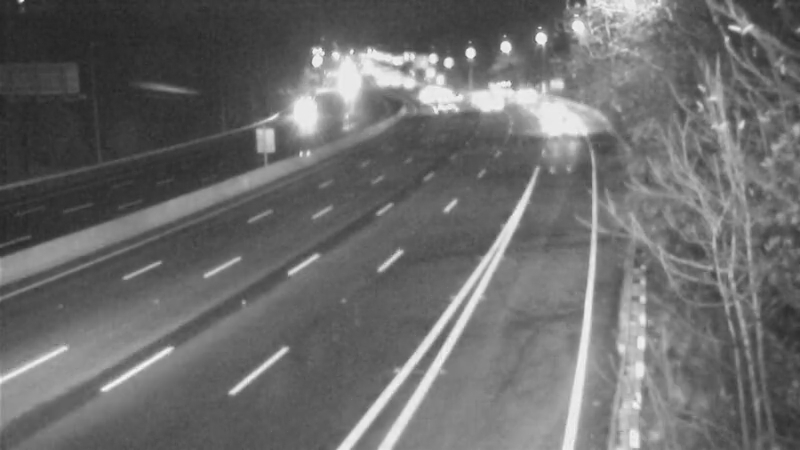vehicle: (470, 62, 520, 112), (397, 70, 447, 120), (490, 63, 540, 113), (450, 71, 500, 121), (468, 79, 518, 129), (527, 85, 577, 135), (415, 82, 465, 132), (537, 101, 587, 151), (276, 85, 326, 135)
